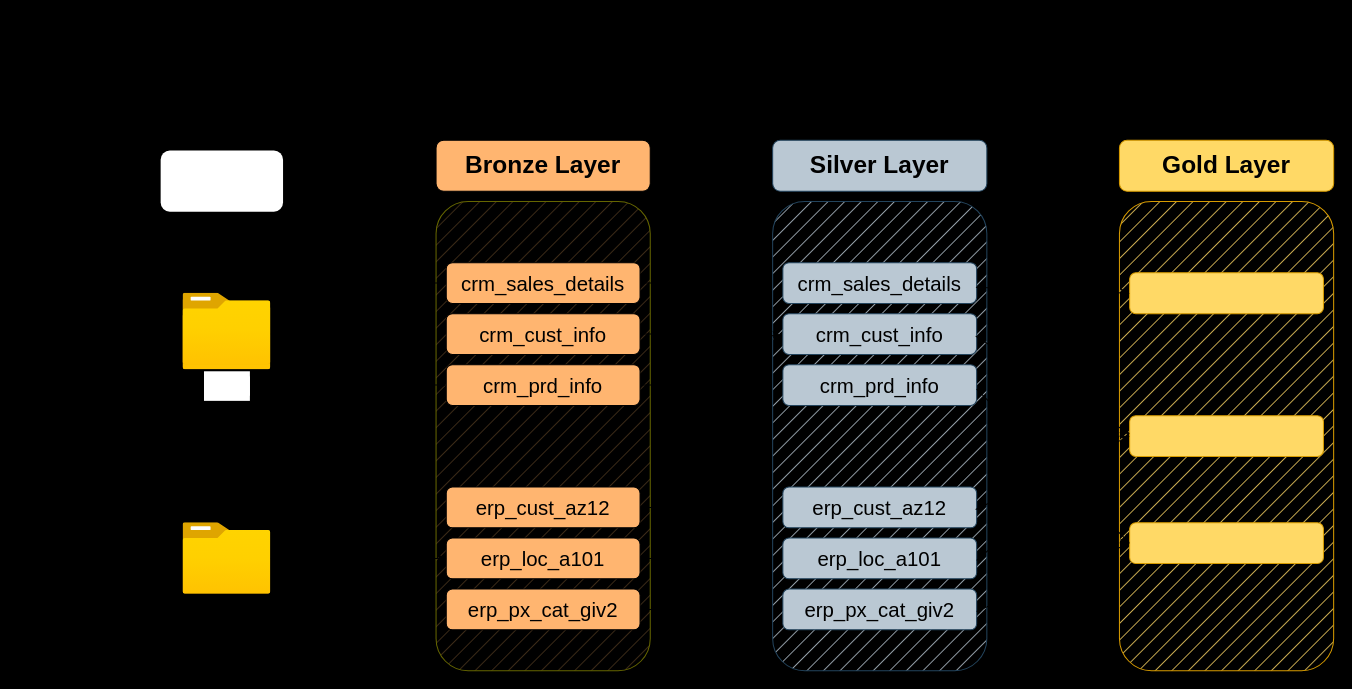
This 1352x689 diagram has some shape labels left out. The centre of each missing label's shape, as x and y in pixels:
"dim_customers" goes at point (1226, 435).
"dim_products" goes at point (1226, 543).
"ERP" goes at point (226, 558).
"fact_sales" goes at point (1226, 293).
"Sources" goes at point (221, 180).
